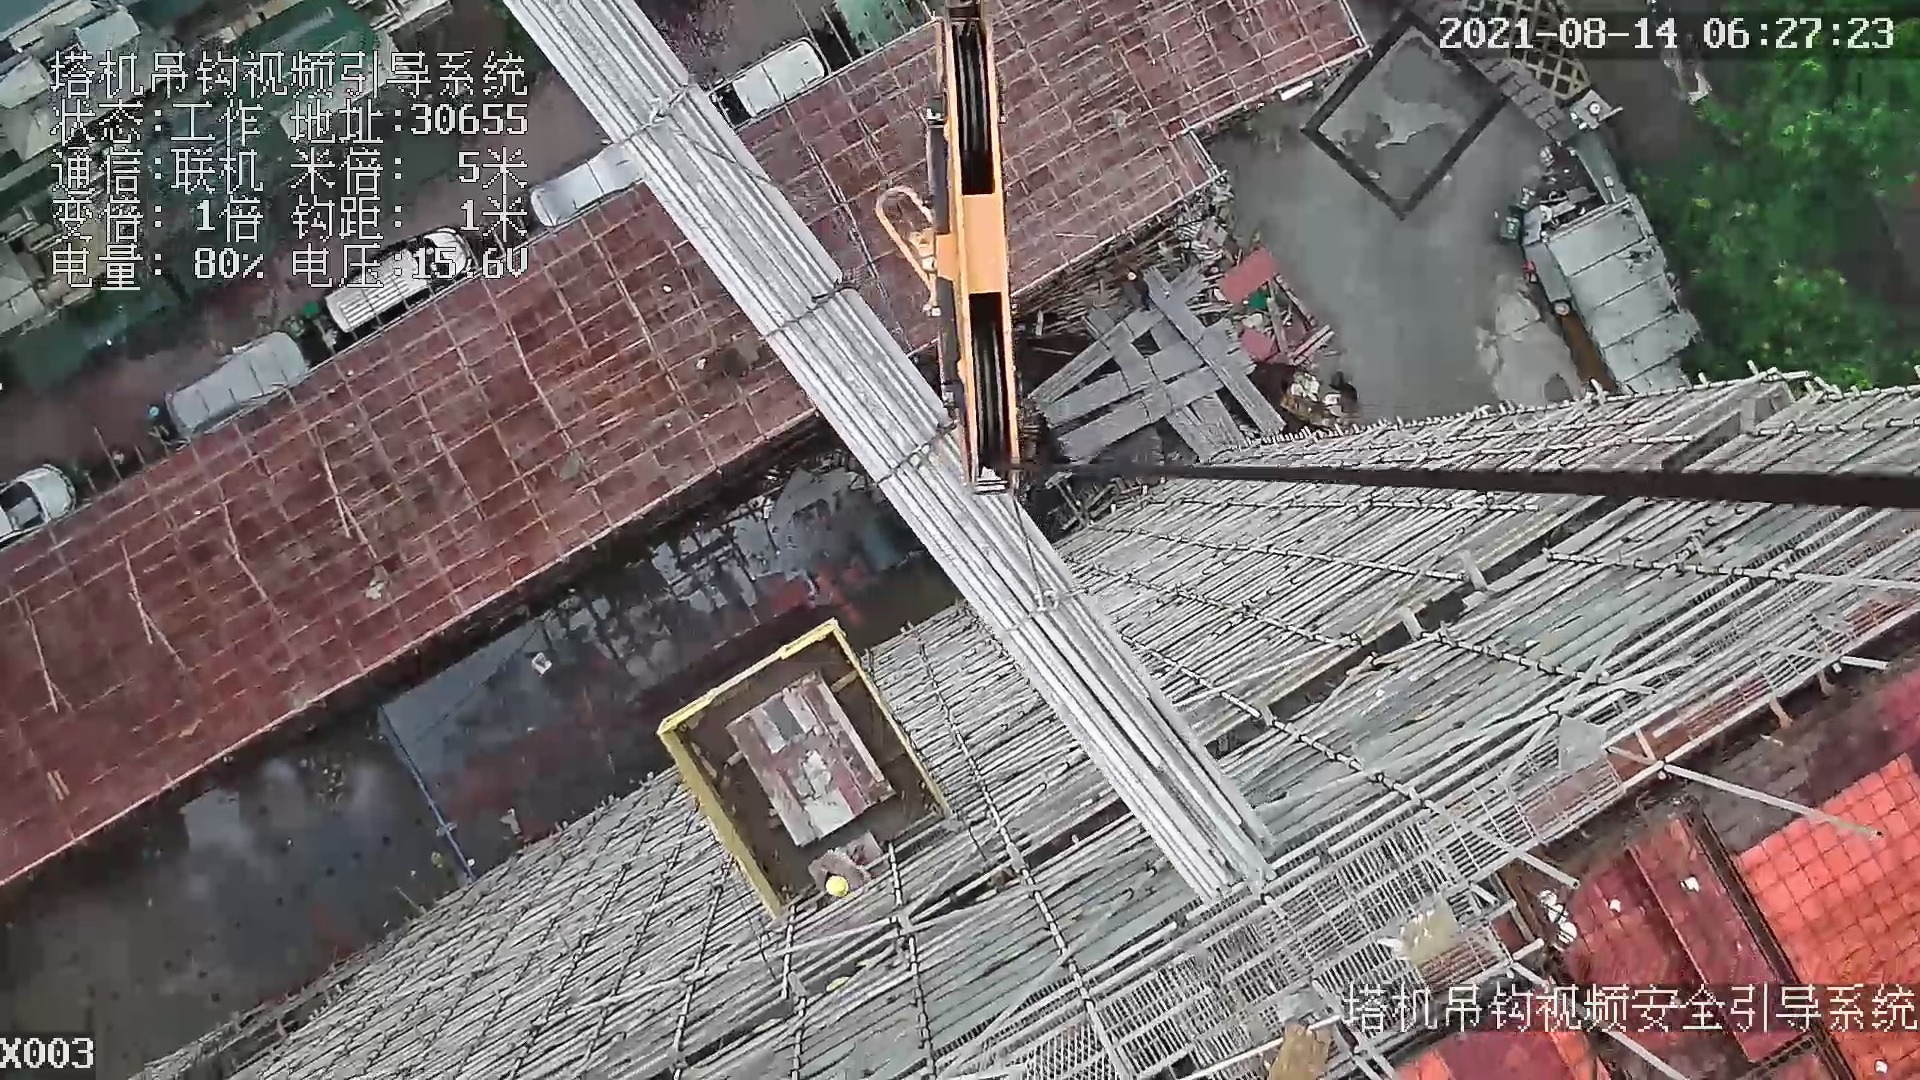helmet: (826, 869, 856, 907)
hook: (928, 6, 1028, 501)
person: (812, 845, 871, 903)
